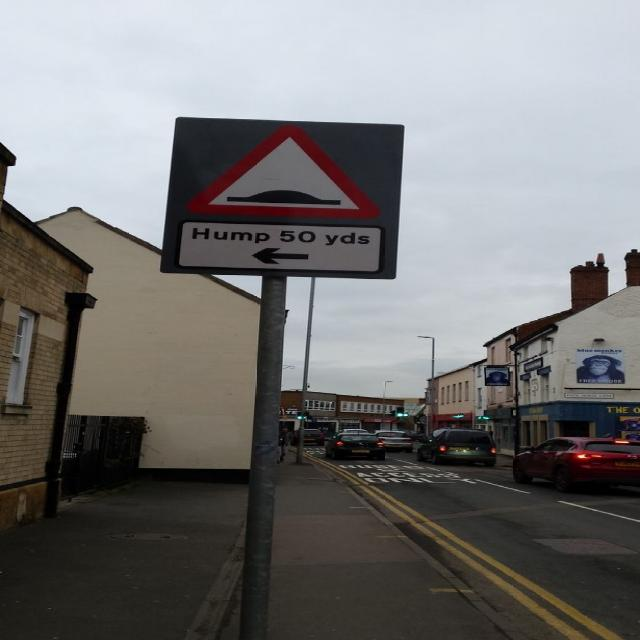hump: (180, 119, 409, 217)
